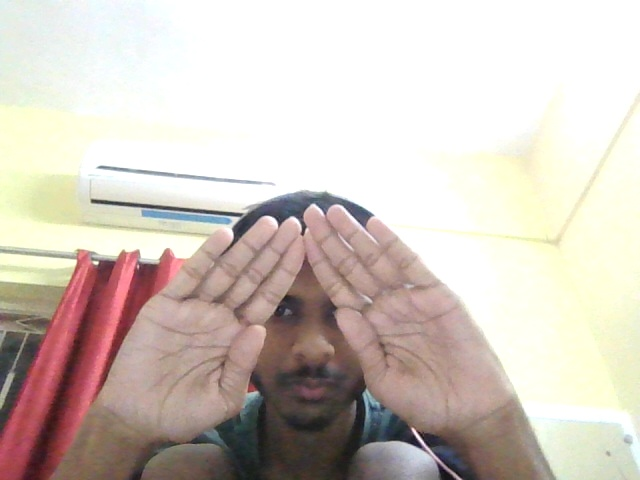ThankYou: (101, 203, 513, 424)
